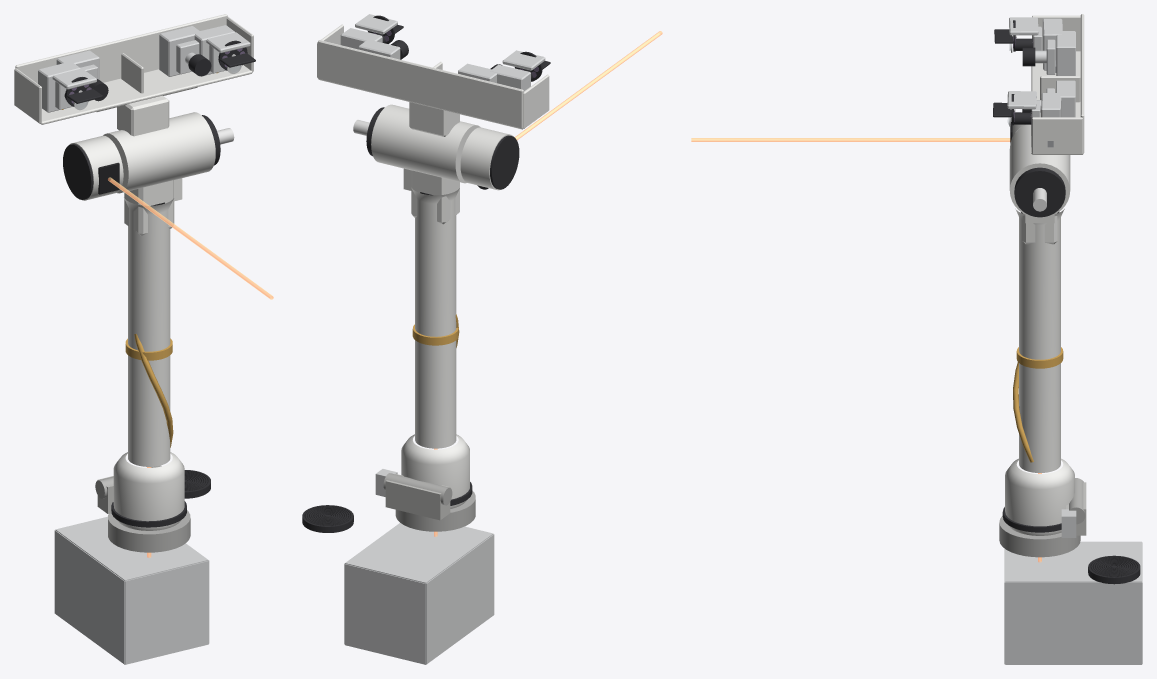
File: mer-minites.glb
The picture shows the model from 3 angles, left to right: view 1: azimuth 30°, elevation 25°; view 2: azimuth 150°, elevation 25°; view 3: azimuth 270°, elevation 25°; orthographic projection. The views are drawn at different scales.
Parts seen in each view (by area): view 1: MINITES_ENCLOSURE, PMA_MAST, CAMERA_BAR, PMA_HEAD_HOUSING, PMA_AZ_ACTUATOR, MINITES_TOP_PLATE, MINITES_SCAN_HEAD, PMA_BASE, NAVCAM_LEFT, MINITES_OPTICAL_PATH, PANCAM_RIGHT_ELECTRONICS, NAVCAM_RIGHT (+5 smaller); view 2: MINITES_ENCLOSURE, CAMERA_BAR, PMA_MAST, PMA_HEAD_HOUSING, MINITES_TOP_PLATE, PMA_BASE, PMA_AZ_ACTUATOR, MINITES_SCAN_HEAD, MINITES_CAL_EXTERNAL, MINITES_OPTICAL_PATH, PANCAM_RIGHT_ELECTRONICS, NAVCAM_LEFT (+3 smaller); view 3: MINITES_COVER, PMA_MAST, PMA_HEAD_HOUSING, PMA_AZ_ACTUATOR, CAMERA_BAR, MINITES_TOP_PLATE, PMA_BASE, NAVCAM_RIGHT, MINITES_OPTICAL_PATH, MINITES_CAL_EXTERNAL, NAVCAM_LEFT.
Part boxes in pixels (<box>): MINITES_ENCLOSURE: <box>54,530,208,664</box>; PMA_MAST: <box>124,178,182,466</box>; CAMERA_BAR: <box>14,14,253,136</box>; PMA_HEAD_HOUSING: <box>103,112,234,235</box>; PMA_AZ_ACTUATOR: <box>111,452,186,530</box>; MINITES_TOP_PLATE: <box>55,516,208,580</box>; MINITES_SCAN_HEAD: <box>63,135,123,200</box>; PMA_BASE: <box>95,465,190,552</box>; NAVCAM_LEFT: <box>159,26,211,76</box>; MINITES_OPTICAL_PATH: <box>108,177,273,557</box>; PANCAM_RIGHT_ELECTRONICS: <box>38,61,80,112</box>; NAVCAM_RIGHT: <box>56,50,108,101</box>; MINITES_ENCLOSURE: <box>344,534,494,664</box>; CAMERA_BAR: <box>317,24,549,136</box>; PMA_MAST: <box>403,168,459,448</box>; PMA_HEAD_HOUSING: <box>353,104,480,224</box>; MINITES_TOP_PLATE: <box>345,523,493,583</box>; PMA_BASE: <box>375,469,475,531</box>; PMA_AZ_ACTUATOR: <box>401,434,472,508</box>; MINITES_SCAN_HEAD: <box>460,127,519,190</box>; MINITES_CAL_EXTERNAL: <box>302,505,353,532</box>; MINITES_OPTICAL_PATH: <box>434,31,662,536</box>; PANCAM_RIGHT_ELECTRONICS: <box>490,64,530,91</box>; NAVCAM_LEFT: <box>358,39,408,59</box>; MINITES_COVER: <box>1005,582,1141,664</box>; PMA_MAST: <box>1015,208,1064,472</box>; PMA_HEAD_HOUSING: <box>1009,124,1070,244</box>; PMA_AZ_ACTUATOR: <box>1002,458,1074,535</box>; CAMERA_BAR: <box>1031,14,1084,154</box>; MINITES_TOP_PLATE: <box>1005,541,1141,582</box>; PMA_BASE: <box>999,478,1086,557</box>; NAVCAM_RIGHT: <box>1022,31,1075,75</box>; MINITES_OPTICAL_PATH: <box>691,138,1041,562</box>; MINITES_CAL_EXTERNAL: <box>1088,555,1140,584</box>; NAVCAM_LEFT: <box>1022,80,1075,117</box>.
Bounding box in the file's own units: 0.4199 × 1.11 × 0.7768.
